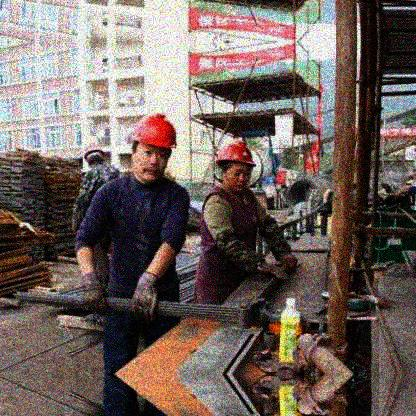helmet: (130, 112, 177, 183), (216, 141, 257, 192), (83, 143, 106, 167)
